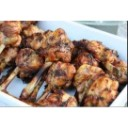chicken_lollipop: (29, 31, 74, 100), (74, 63, 119, 106), (3, 47, 36, 97)
